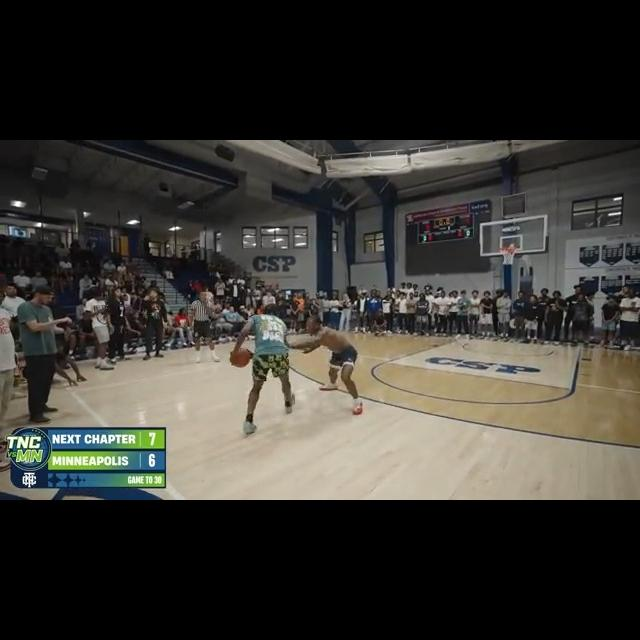basketball: (230, 345, 250, 368)
hoop: (500, 243, 516, 265)
